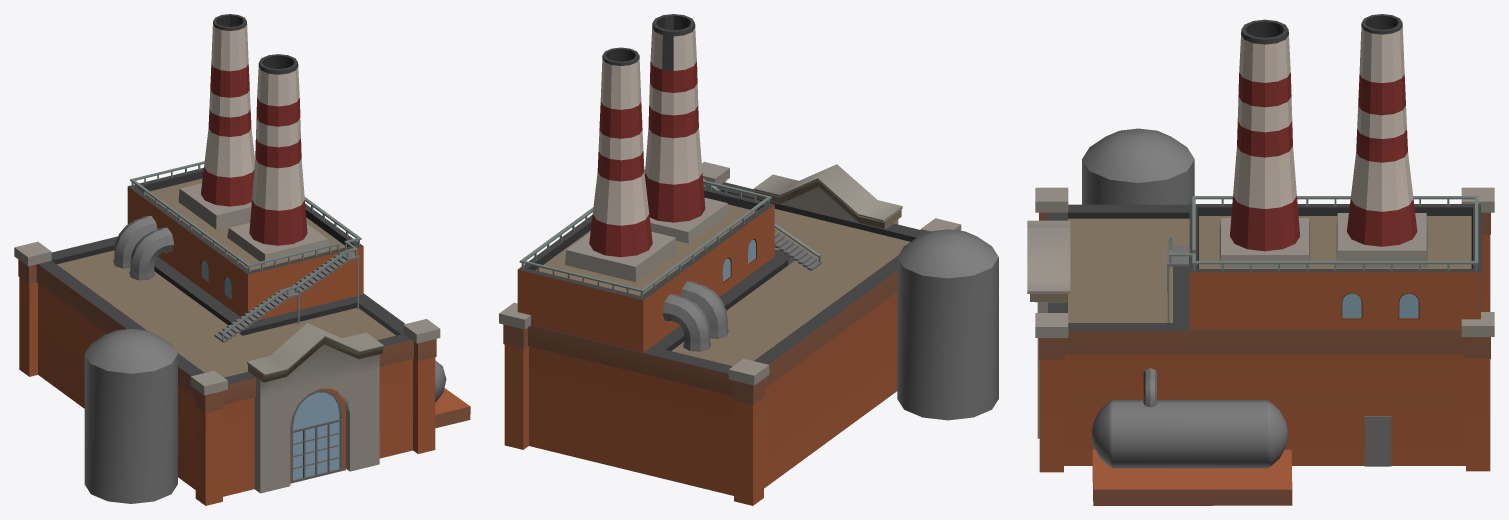
3 renders of one model, left to right at view 1: azimuth 30°, elevation 25°; view 2: azimuth 150°, elevation 25°; view 3: azimuth 270°, elevation 25°, orthographic. The views are drawn at different scales.
Parts seen in each view (by area): view 1: first_floor, second_floor, tank, fa_e, pCylinder10, pCylinder12, pCube8 (×3), door1, pCube9 (×3), pCube213, pCube6, pCube168 (+4 smaller); view 2: first_floor, second_floor, tank, pCylinder10, pCylinder12, pCube8 (×2), fa_e, pCube7, pCube213, pCylinder8, pCube6, pCylinder5 (+2 smaller); view 3: first_floor, second_floor, pCylinder10, pCylinder4, pCylinder12, pCube3, pCube8 (×3), tank, fa_e, pCube9 (×4), pCube7, pCube213 (+3 smaller).
Part boxes in pixels (<box>): first_floor: <box>36,236,413,496</box>; second_floor: <box>127,167,363,335</box>; tank: <box>84,328,177,503</box>; fa_e: <box>247,323,383,493</box>; pCylinder10: <box>249,54,307,245</box>; pCylinder12: <box>201,14,255,206</box>; pCube8 (×3): <box>18,259,436,505</box>; door1: <box>290,388,345,483</box>; pCube9 (×3): <box>14,241,440,395</box>; pCube213: <box>130,161,361,334</box>; pCube6: <box>227,222,329,264</box>; pCube168: <box>214,251,359,342</box>; first_floor: <box>528,182,920,495</box>; second_floor: <box>517,187,794,352</box>; tank: <box>897,229,998,420</box>; pCylinder10: <box>644,14,705,222</box>; pCylinder12: <box>589,47,652,257</box>; pCube8 (×2): <box>503,324,764,505</box>; fa_e: <box>753,164,902,229</box>; pCube7: <box>565,231,676,282</box>; pCube213: <box>519,169,821,292</box>; pCylinder8: <box>662,294,710,351</box>; pCube6: <box>649,197,729,243</box>; pCylinder5: <box>680,281,728,338</box>; first_floor: <box>1048,204,1481,465</box>; second_floor: <box>1173,204,1480,330</box>; pCylinder10: <box>1230,19,1299,251</box>; pCylinder4: <box>1091,400,1288,468</box>; pCylinder12: <box>1347,14,1417,246</box>; pCube3: <box>1092,449,1292,505</box>; pCube8 (×3): <box>1039,212,1490,472</box>; tank: <box>1082,128,1194,204</box>; fa_e: <box>1027,220,1070,438</box>; pCube9 (×4): <box>1035,187,1494,337</box>; pCube7: <box>1336,213,1427,267</box>; pCube213: <box>1169,196,1478,264</box>.
Bounding box in the file's own units: 0.1711 × 0.1545 × 0.1586.
